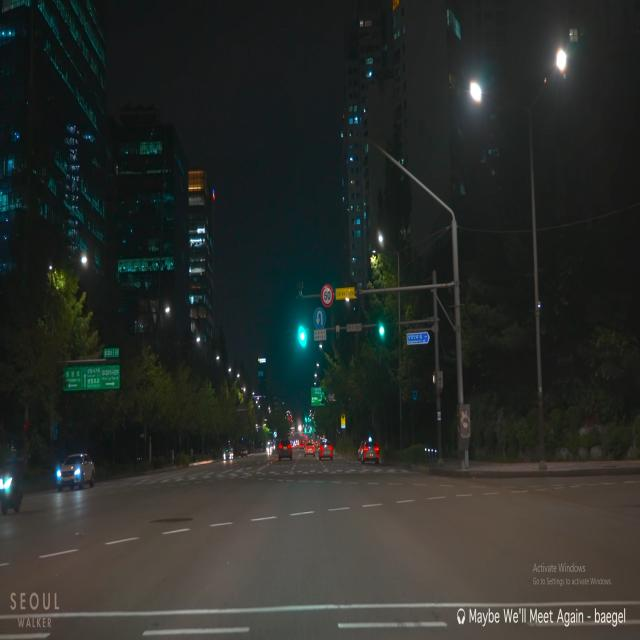headlights: (53, 460, 86, 490)
